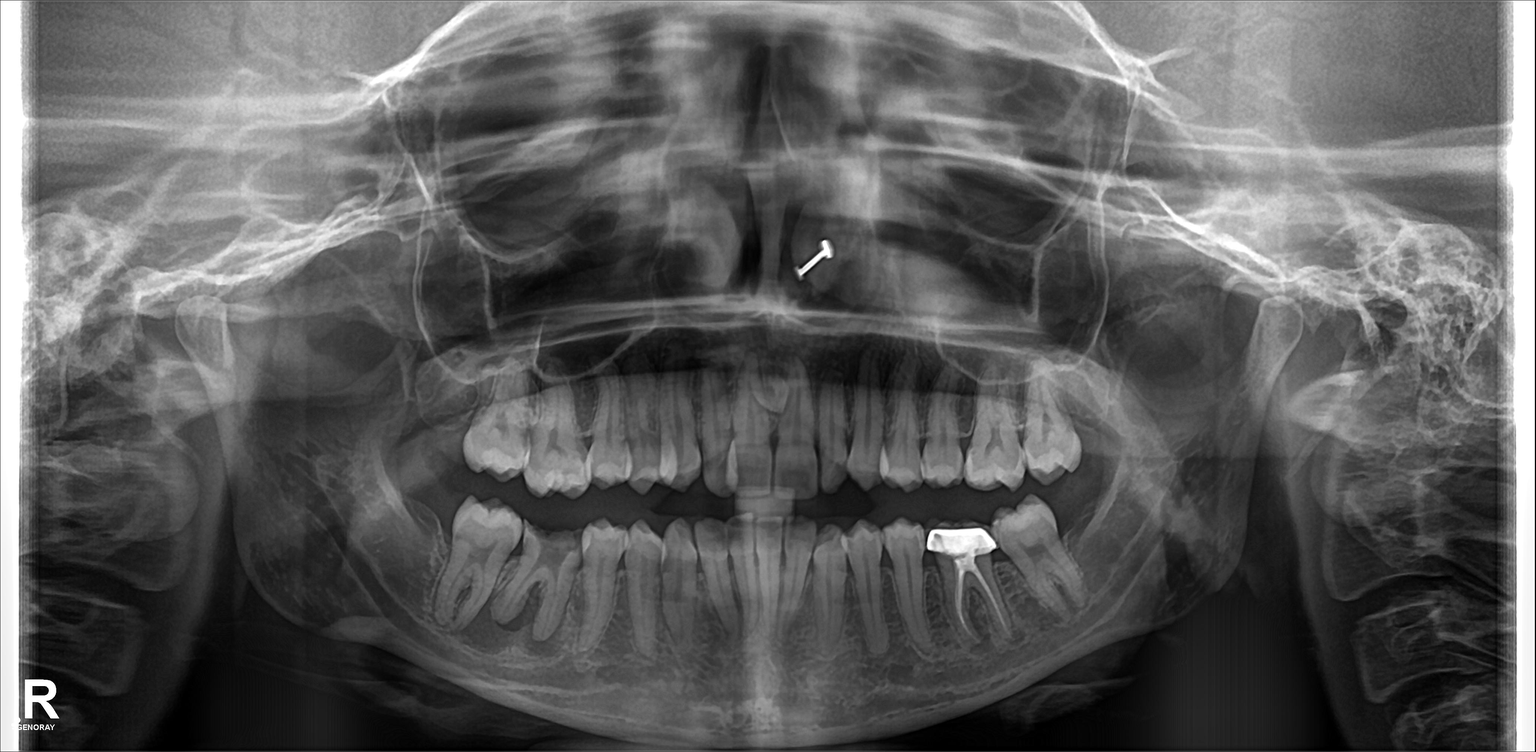Dental Caries: (533, 538, 577, 572)
Endodontically Treated Tooth: (931, 527, 1000, 661)
Missing Tooth: (423, 361, 469, 474), (402, 499, 450, 588), (1065, 501, 1108, 593), (1069, 374, 1107, 465)
Periapical Lesion: (497, 566, 609, 660)
